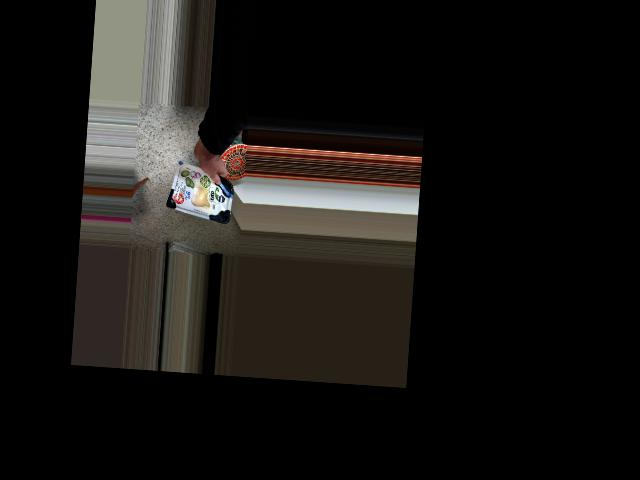cheese: (164, 166, 239, 219)
